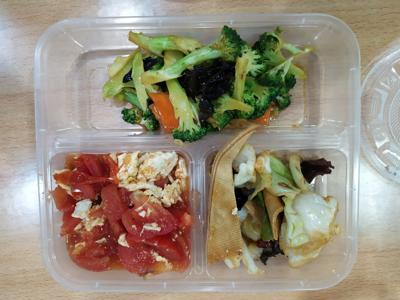jdxhs: (52, 155, 200, 275)
